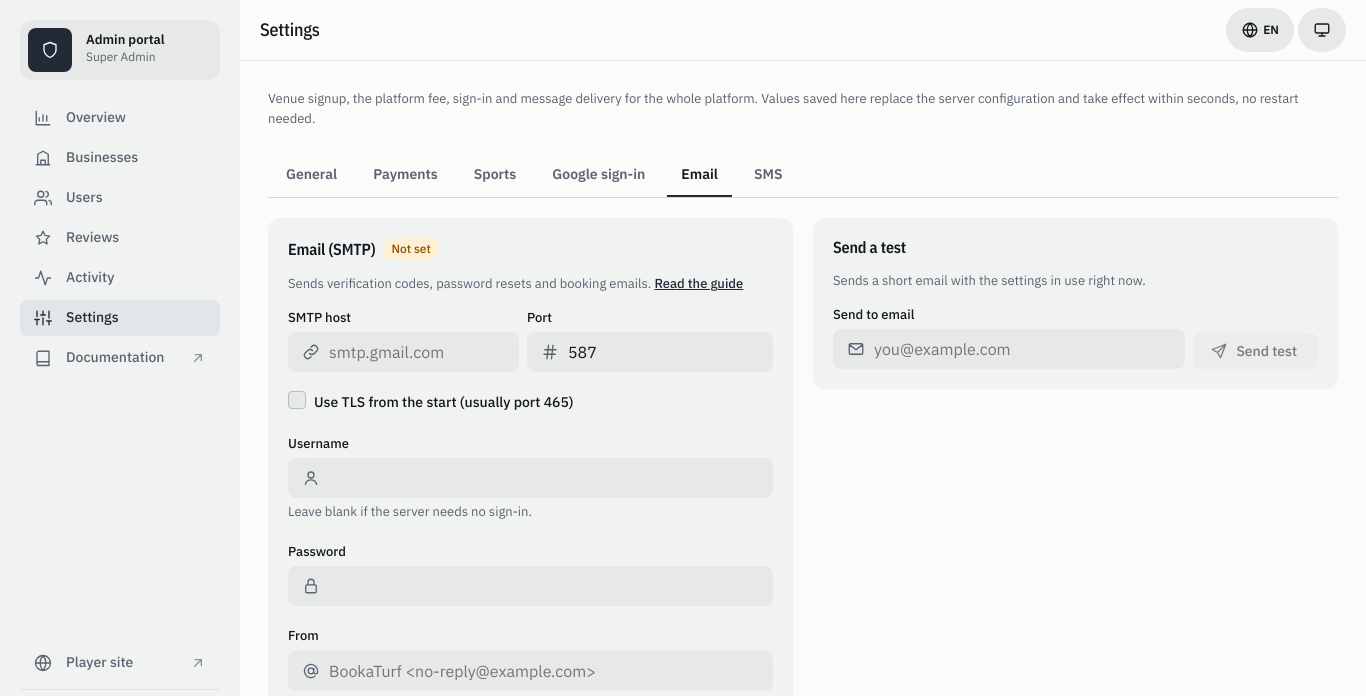
Test: admin settings › sends a test email and shows the provider reason when it fails
Step 1. Type "ops@example.com" into the field labelled "Send to email" → (1009, 349), box x1=833 y1=329 x2=1185 y2=369
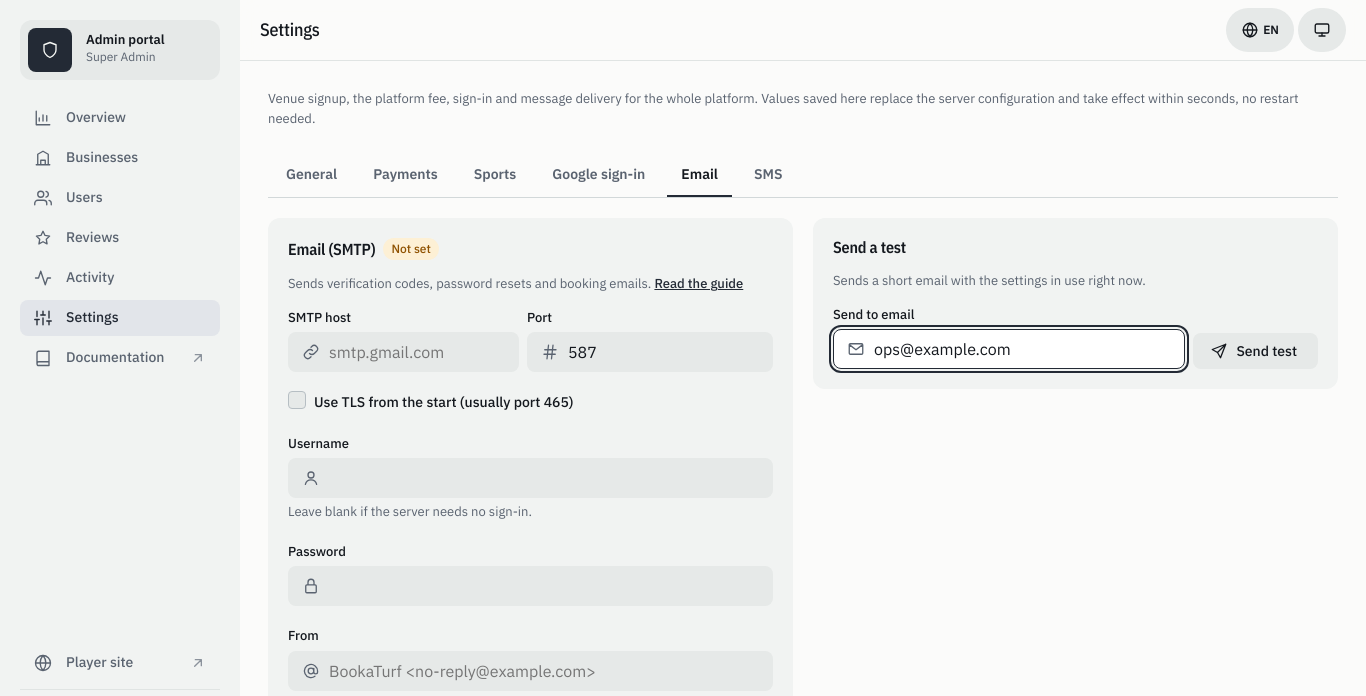
Step 2. Click the button "Send test" → (1256, 351), box x1=1193 y1=333 x2=1318 y2=369
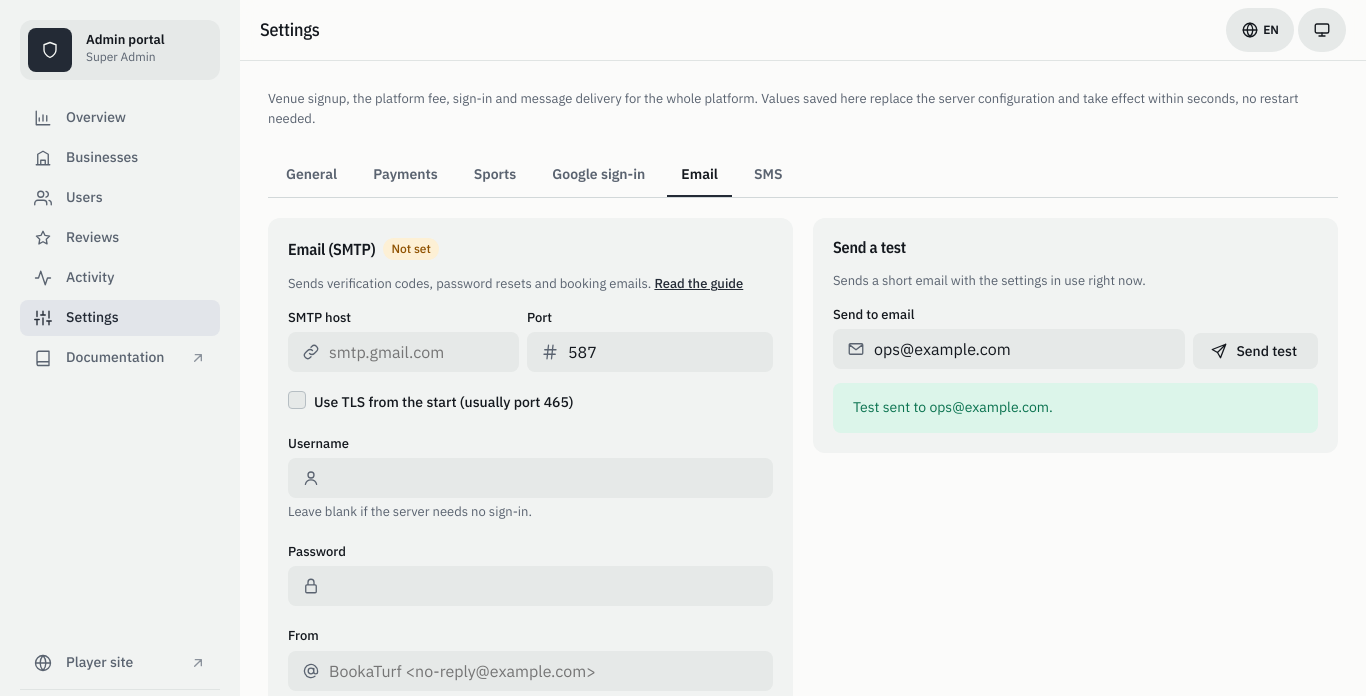
Expected: the text "Test sent to ops@example.com." is shown, x1=833 y1=383 x2=1318 y2=433
Step 3. Click the button "Send test" → (1256, 351), box x1=1193 y1=333 x2=1318 y2=369
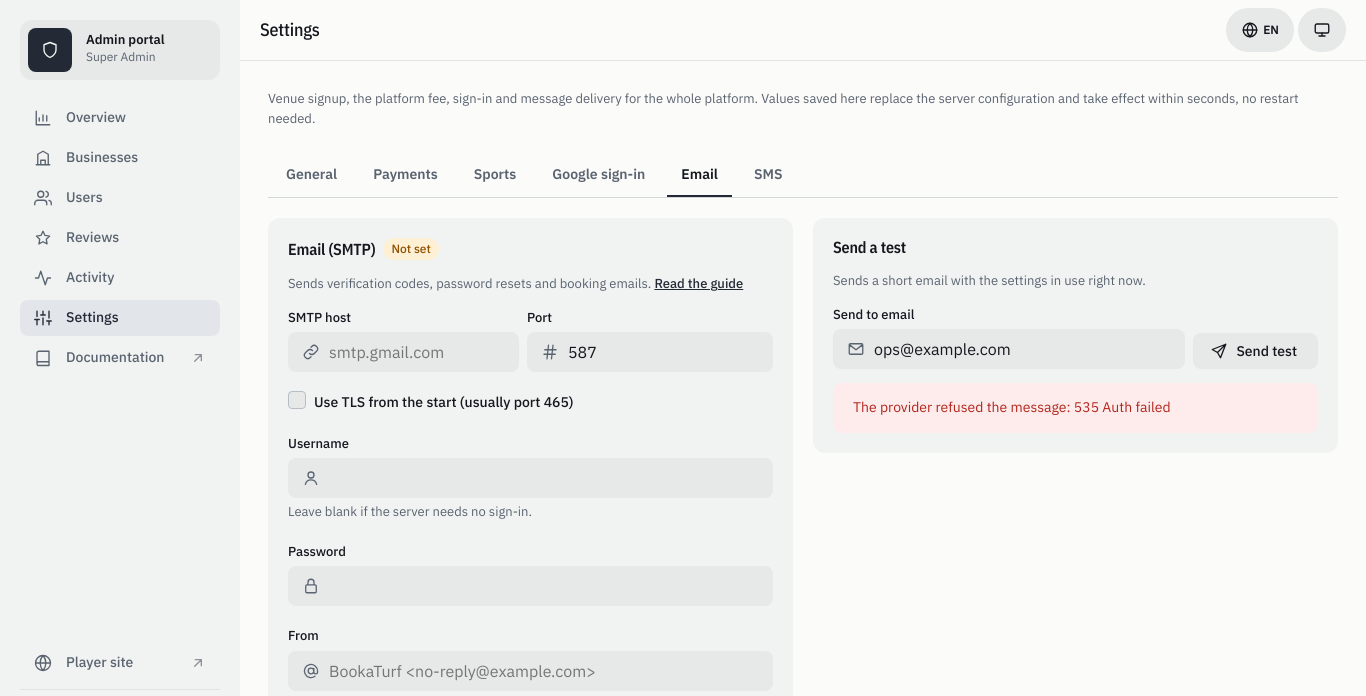
Expected: the text "The provider refused the message: 535 Auth failed" is shown, x1=833 y1=383 x2=1318 y2=433
